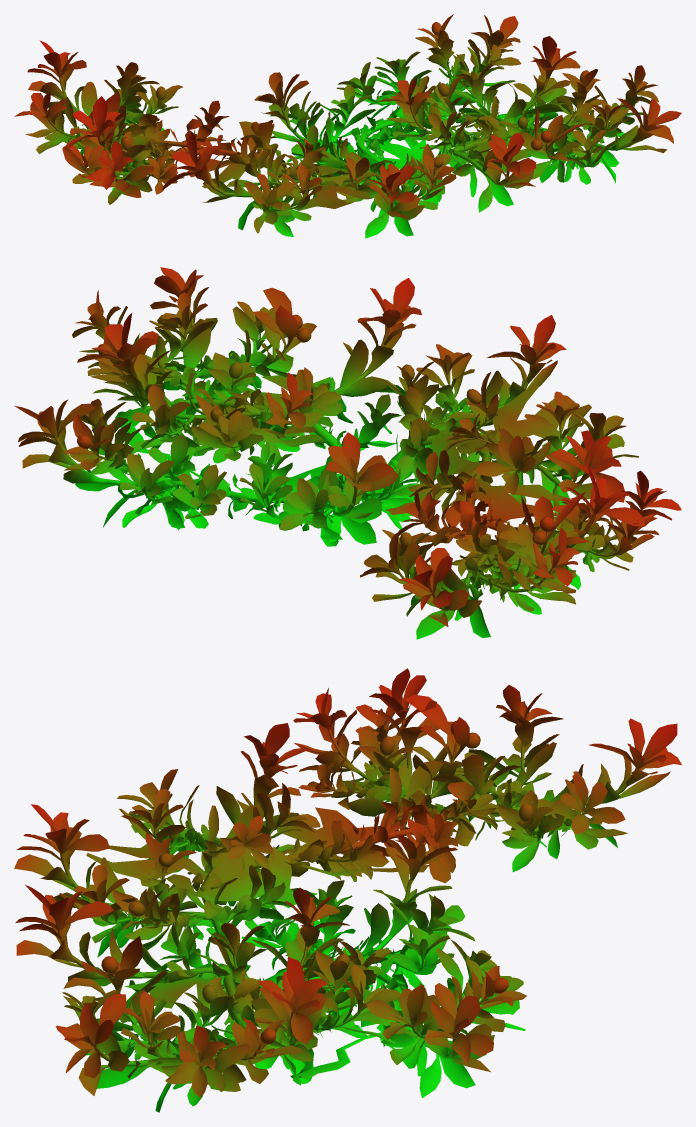
Rendered from Alpine Bearberry_LOD1_Var13_xb0gdazqx.fbx.
The picture shows the model from 3 angles, top to bottom: view 1: azimuth 30°, elevation 25°; view 2: azimuth 150°, elevation 25°; view 3: azimuth 270°, elevation 25°; orthographic projection. The views are drawn at different scales.
Parts seen in each view (by area): view 1: _nnge_Var13_LOD1; view 2: _nnge_Var13_LOD1; view 3: _nnge_Var13_LOD1.
Boxes of the visible parts, left/top/right/bottom form: _nnge_Var13_LOD1: left=14, top=14, right=681, bottom=238; _nnge_Var13_LOD1: left=15, top=267, right=681, bottom=639; _nnge_Var13_LOD1: left=14, top=668, right=681, bottom=1112.
Bounding box in the file's own units: 64.9 × 14.72 × 50.93.
